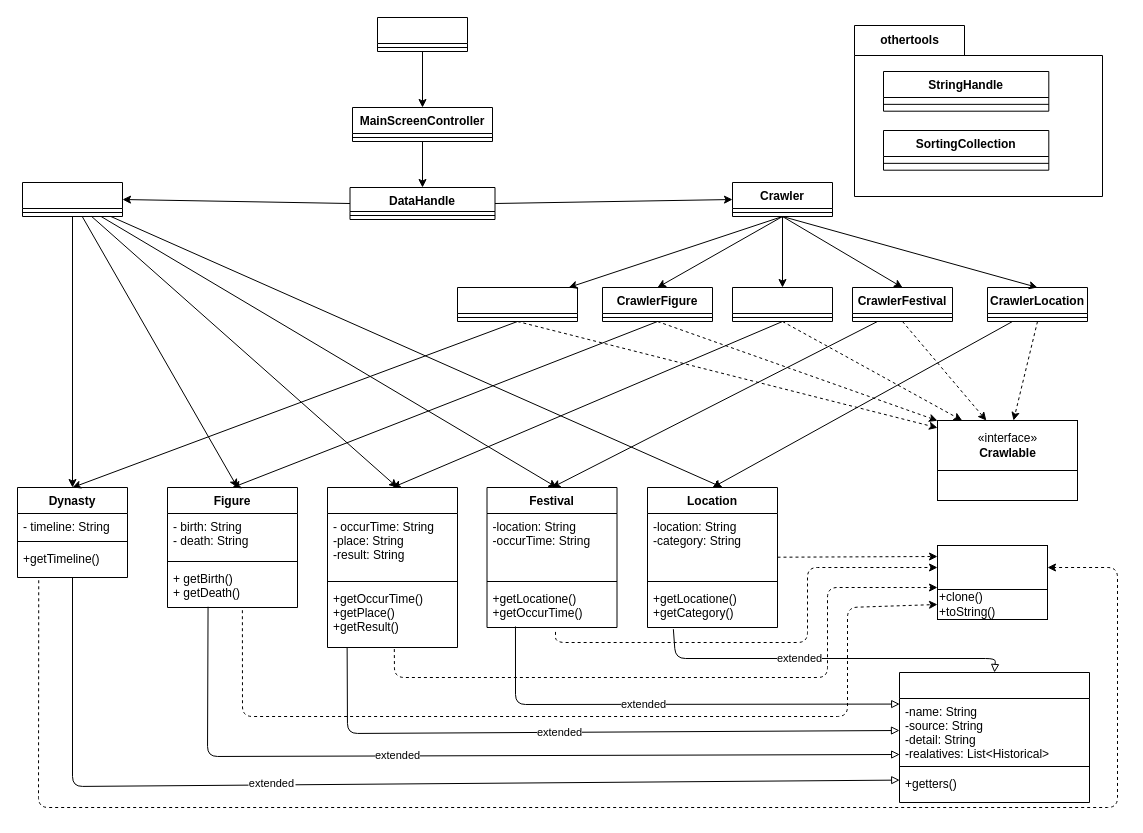
Image size: 1143x833. Some labels were removed from this diagram. Each missing label, with the box of its shape:
+crawlData(): void: (936, 470, 1078, 500)
App: (376, 16, 468, 52)
CrawlerDynasty: (456, 286, 578, 322)
CrawlerWar: (732, 286, 832, 322)
Historical: (898, 672, 1090, 802)
Importer: (22, 182, 122, 216)
War: (326, 486, 458, 648)
«interface» CloneAndDisplay: (936, 544, 1048, 590)
